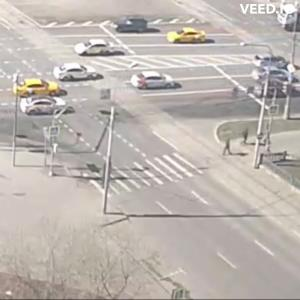car: (75, 39, 133, 58), (8, 77, 63, 96), (16, 98, 70, 116), (132, 72, 182, 91), (55, 63, 100, 83), (253, 51, 293, 69), (168, 28, 210, 44), (116, 19, 152, 35)
